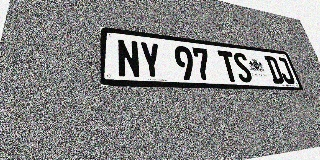7: (191, 47, 214, 81)
9: (173, 45, 197, 80)
D: (264, 55, 285, 84)
J: (275, 57, 296, 84)
N: (116, 38, 141, 78)
S: (232, 52, 254, 83)
T: (217, 50, 240, 82)
Y: (139, 41, 163, 79)
